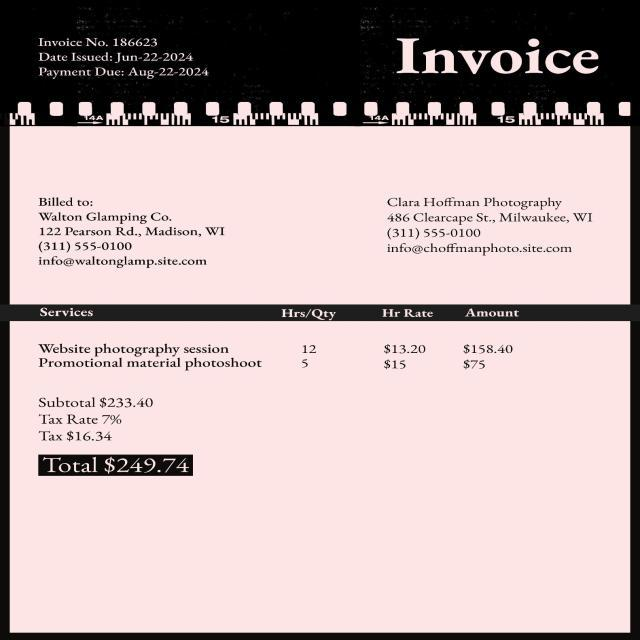ROI: (17, 292, 539, 378), (19, 182, 242, 278), (34, 386, 214, 486), (382, 188, 606, 263), (388, 16, 605, 80), (24, 33, 222, 84)
